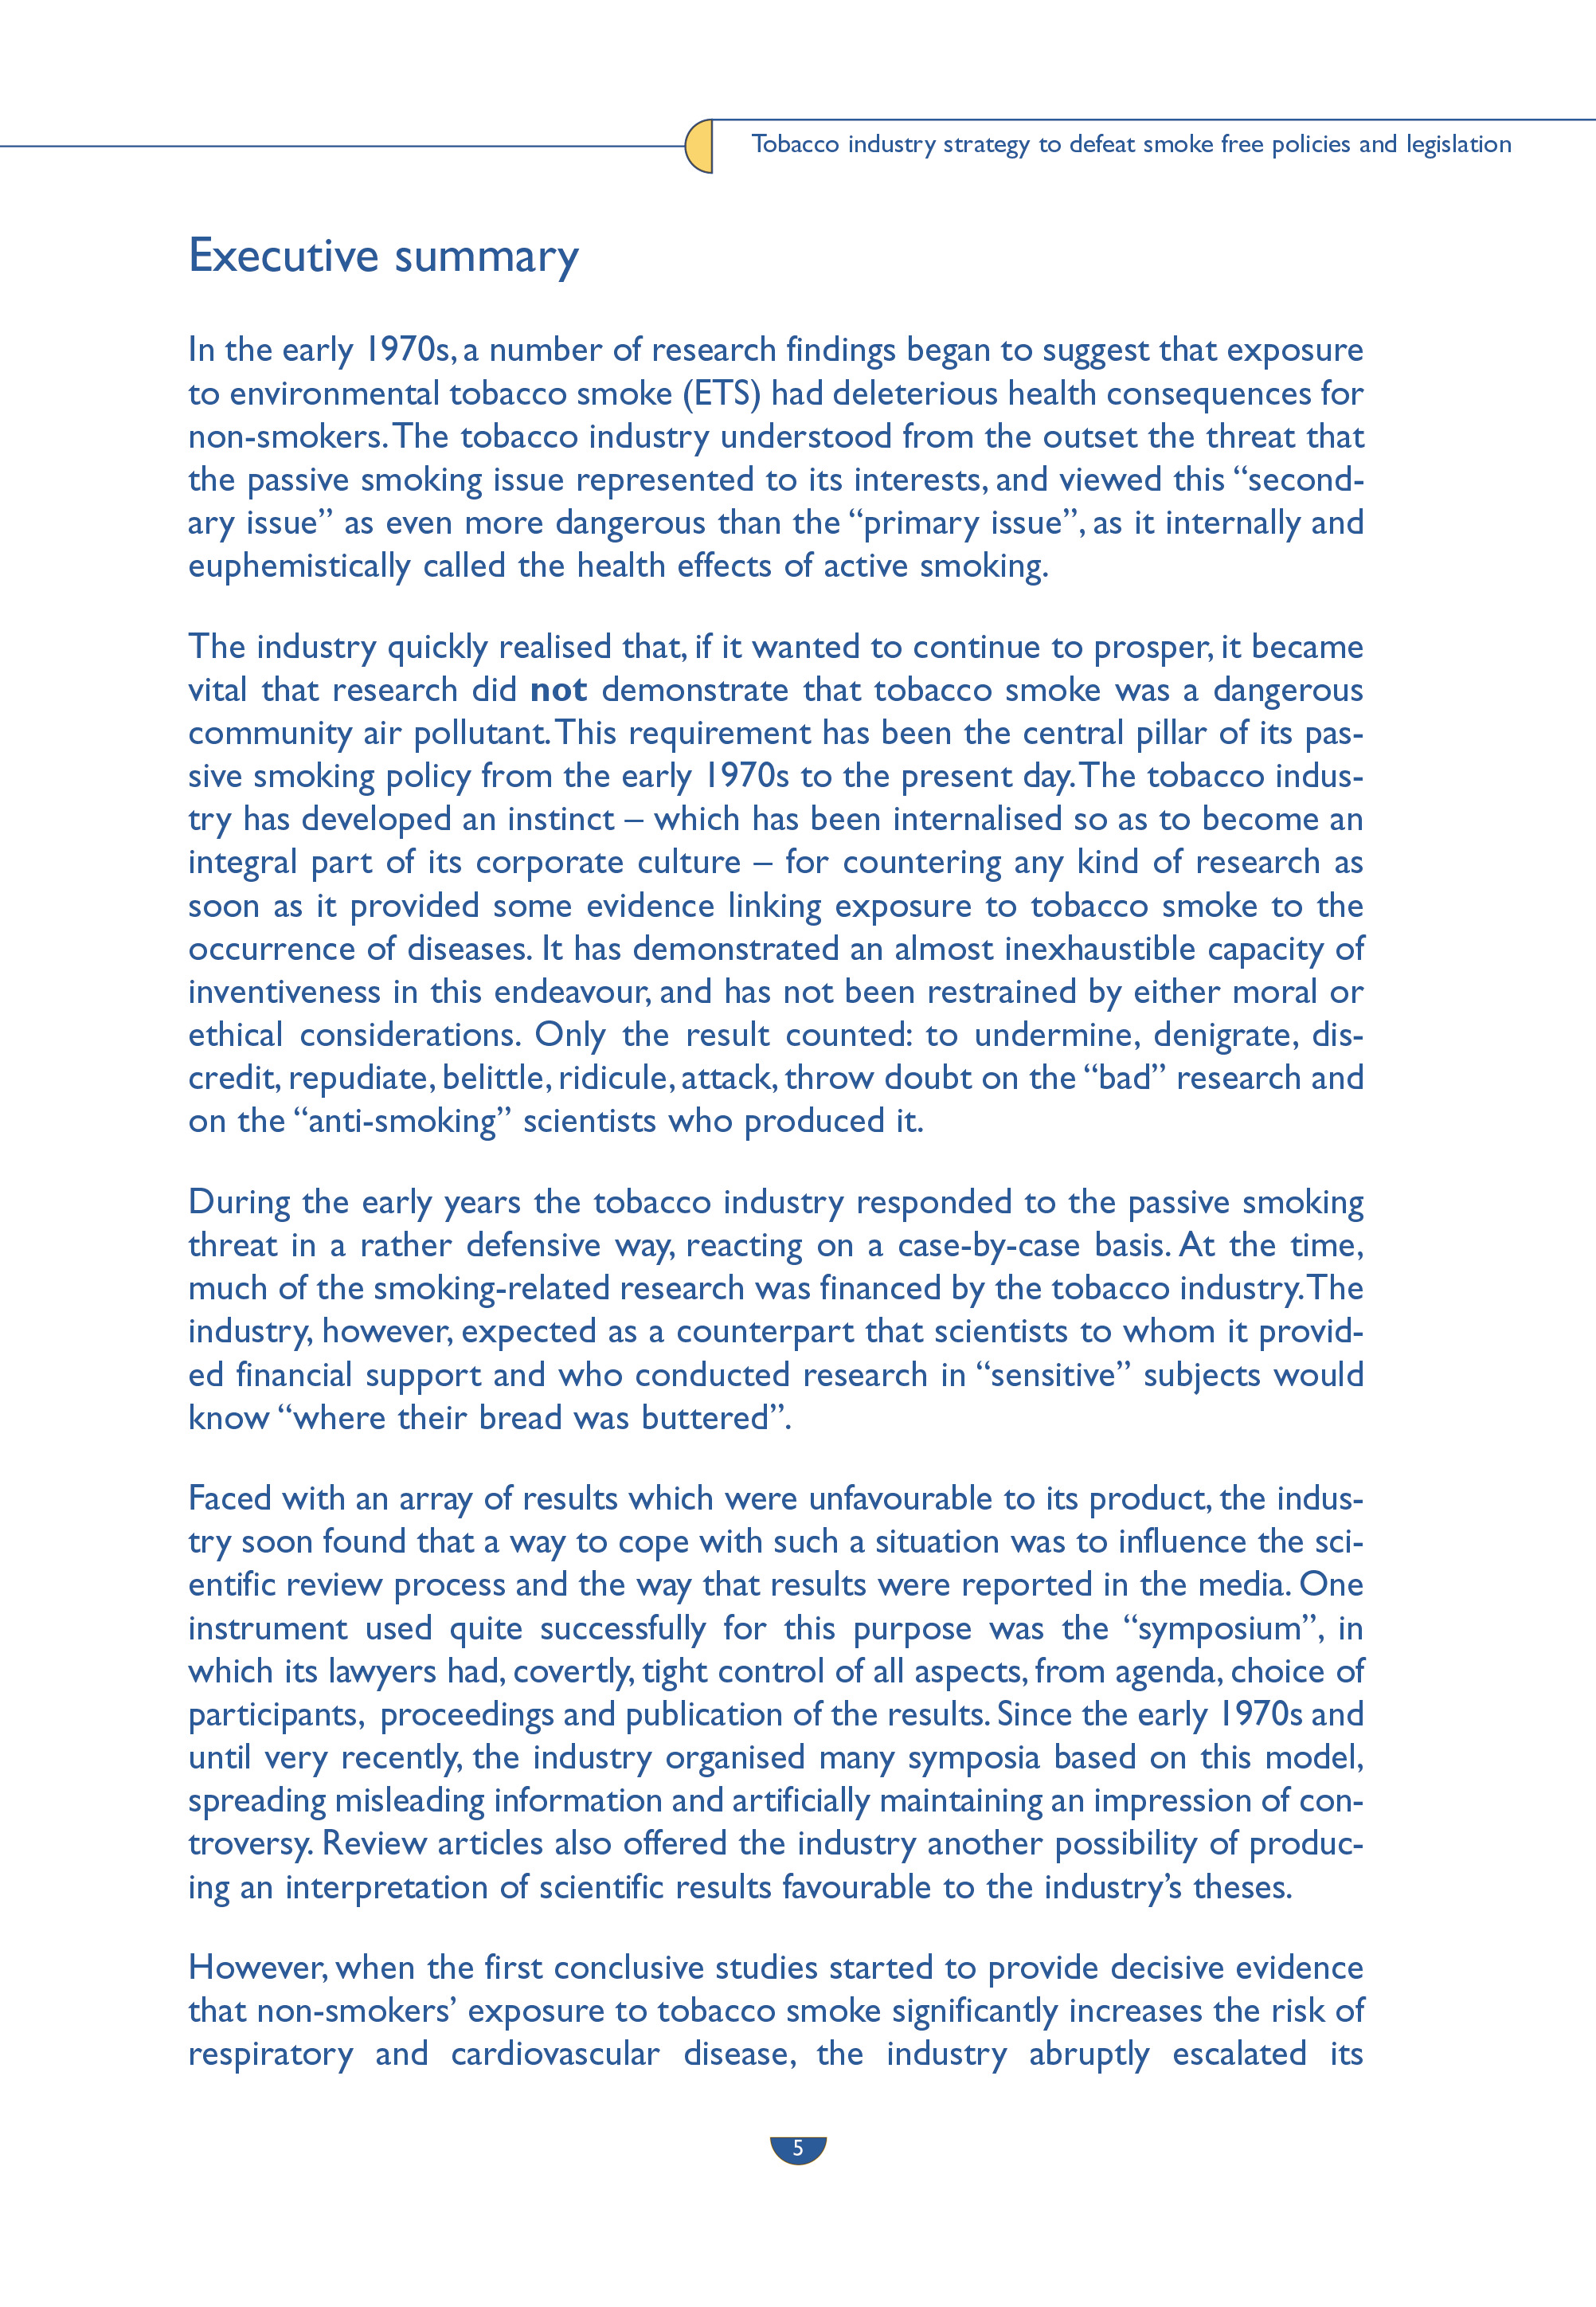section: (175, 203, 604, 296)
text: (172, 619, 1365, 1143), (175, 1485, 1386, 1914), (168, 314, 1375, 594), (168, 1178, 1386, 1445), (168, 1949, 1414, 2081)
